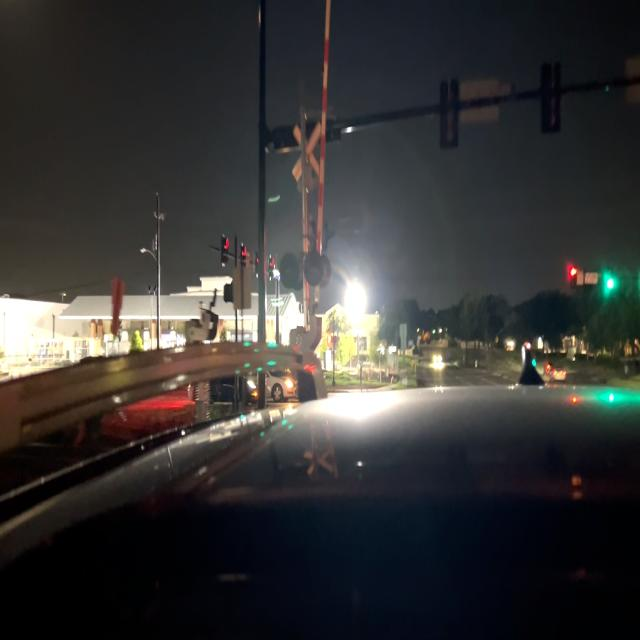back-of-sign: (233, 264, 253, 309), (113, 277, 123, 333)
